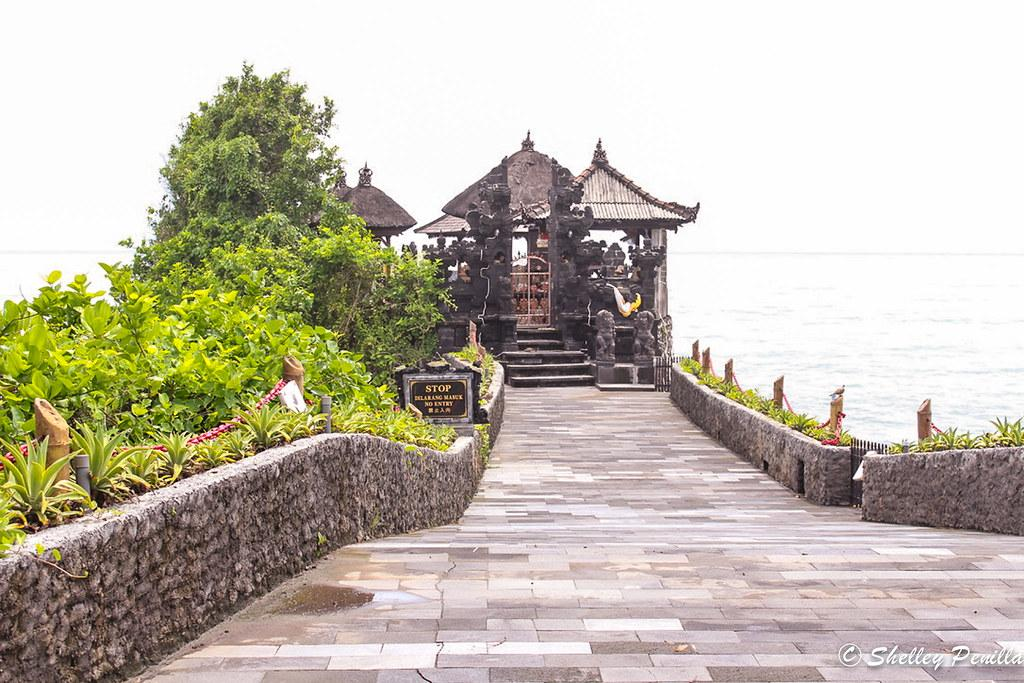temple: (410, 129, 701, 390), (307, 161, 418, 253)
